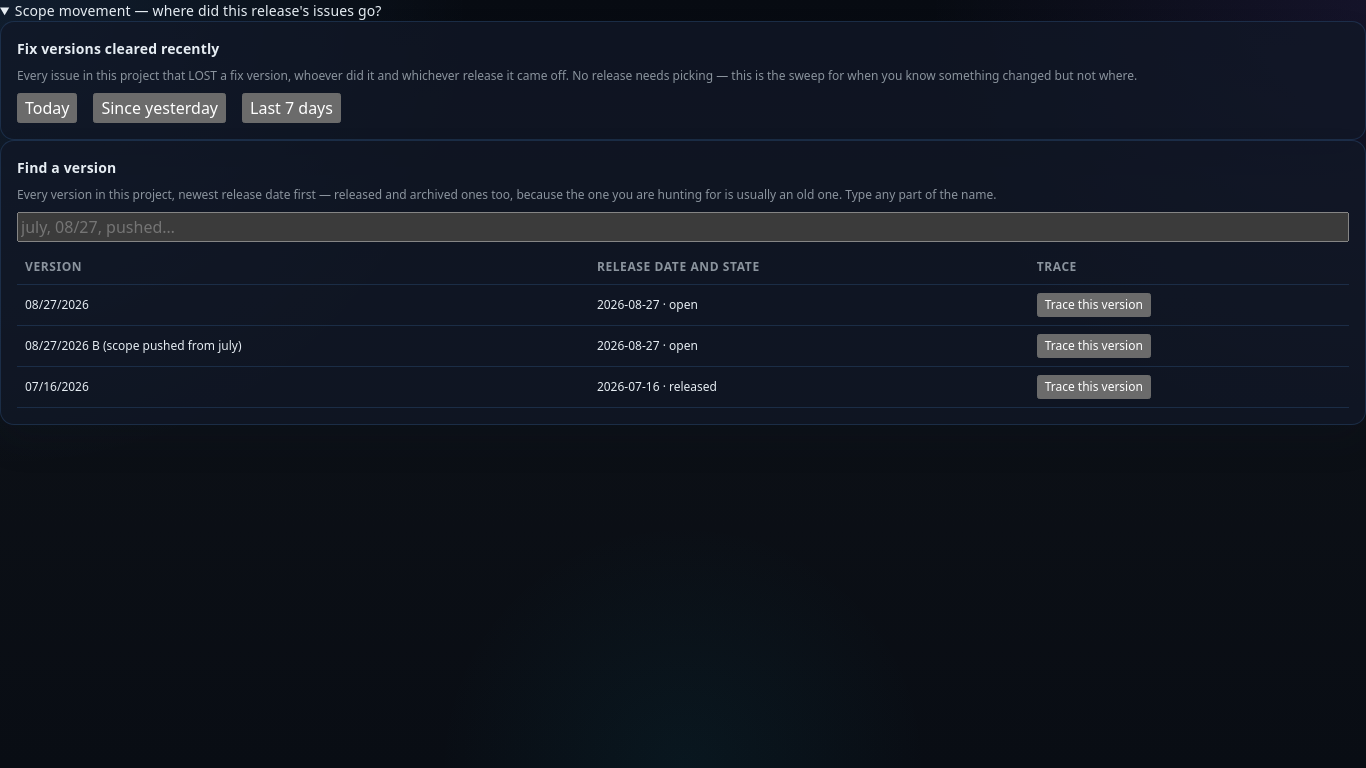
Test: VersionMovementPanel — what the release looked like at a moment › rebuilds the release as it stood, including what has since been taken off
Click the 1st button "Trace this version" at (1094, 305), box [1037,293,1151,317]
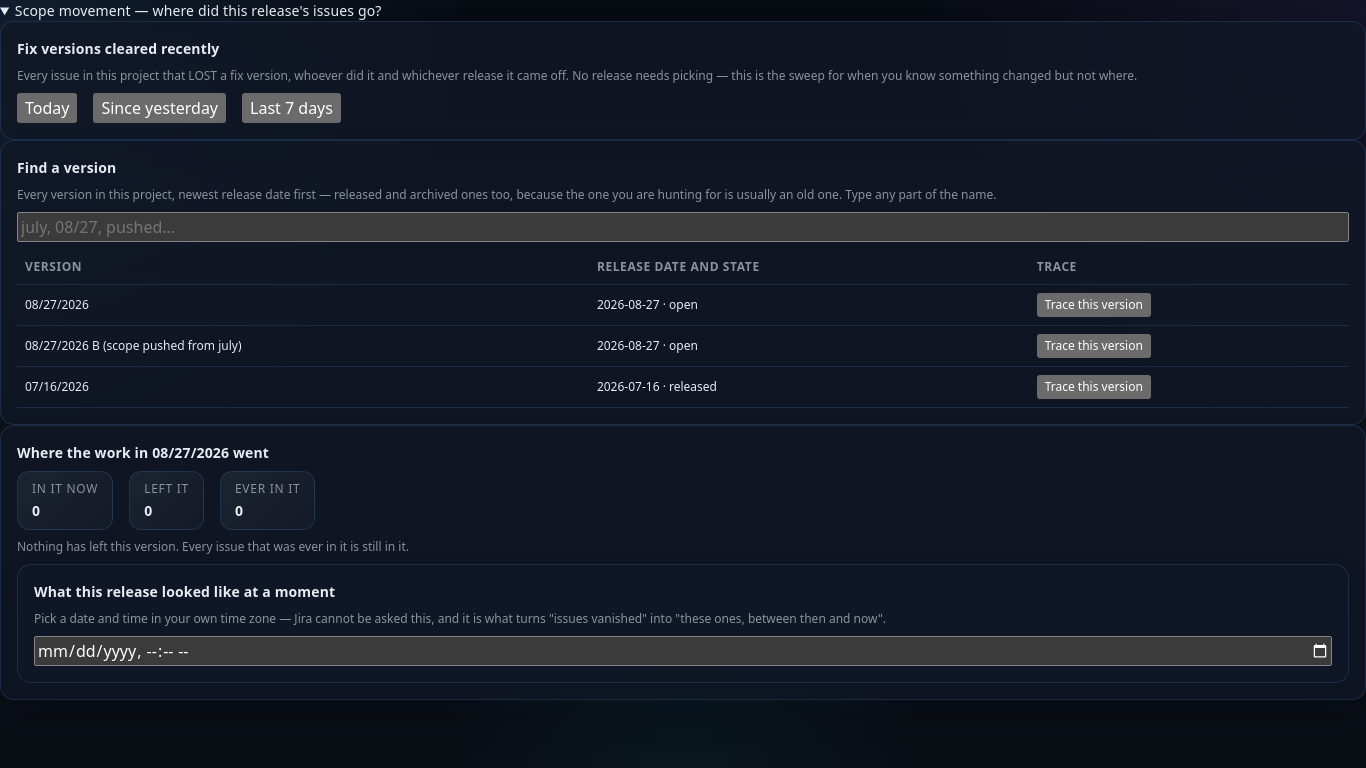
Type "2026-08-21T13:00" into the field named "Release contents as of" at (683, 651), box [34,636,1332,666]
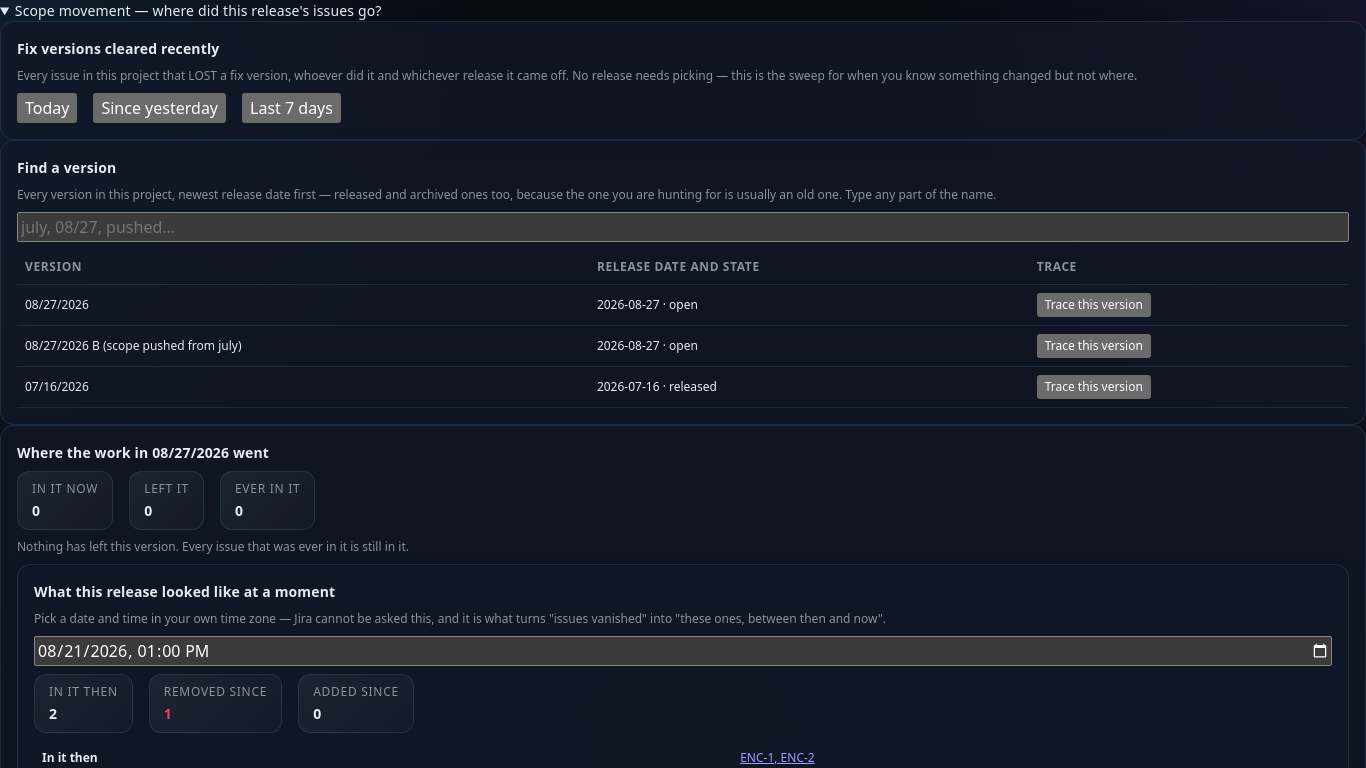
Expected: the link "ENC-1, ENC-2" is shown, [740,749,815,766]
